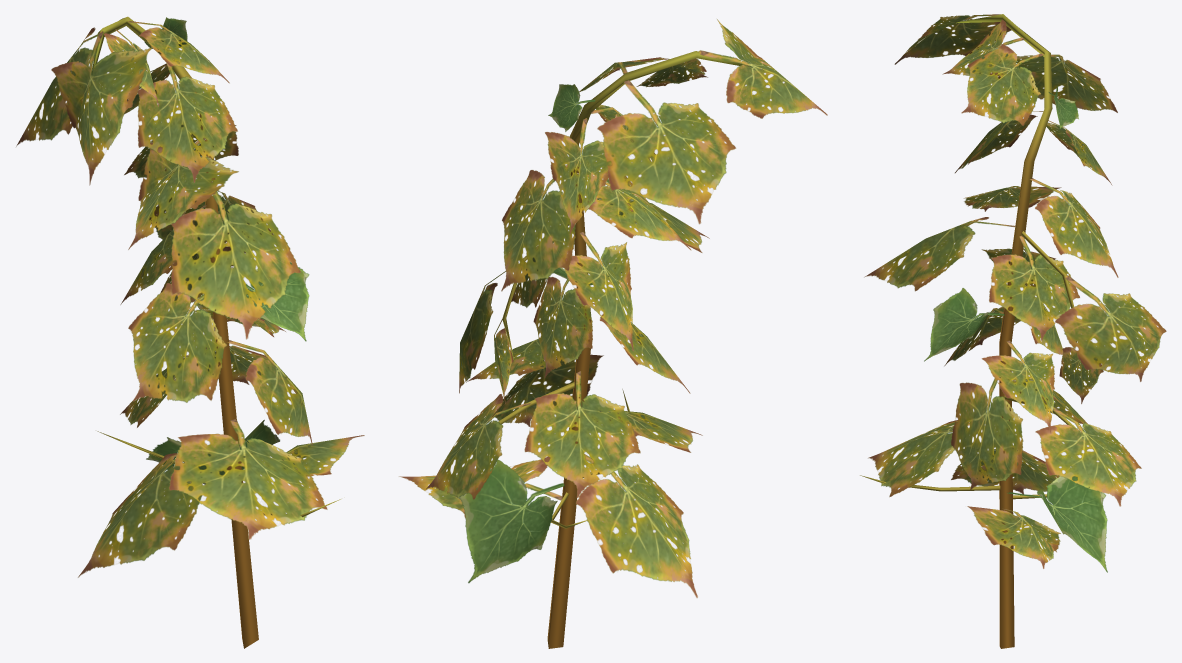
Rendered from plant_cucumber_S4.gltf.
The picture shows the model from 3 angles, left to right: view 1: azimuth 30°, elevation 25°; view 2: azimuth 150°, elevation 25°; view 3: azimuth 270°, elevation 25°; orthographic projection. The views are drawn at different scales.
Visible parts, largest first — view 1: plant_cucumber_S4; view 2: plant_cucumber_S4; view 3: plant_cucumber_S4.
Boxes of the visible parts, left/top/right/bottom form: plant_cucumber_S4: left=16, top=16, right=364, bottom=648; plant_cucumber_S4: left=399, top=19, right=827, bottom=648; plant_cucumber_S4: left=860, top=14, right=1166, bottom=648.
Bounding box in the file's own units: 0.5406 × 0.9376 × 0.455.
Materials: 1 (1 with a texture image).
